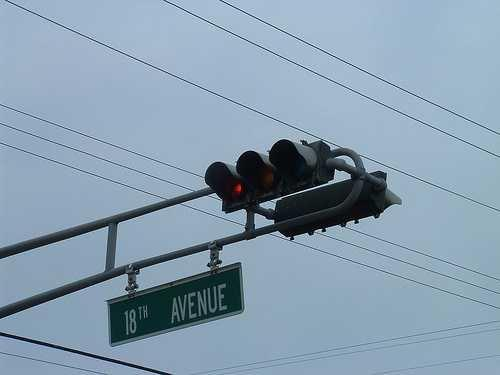red: (201, 138, 324, 208)
